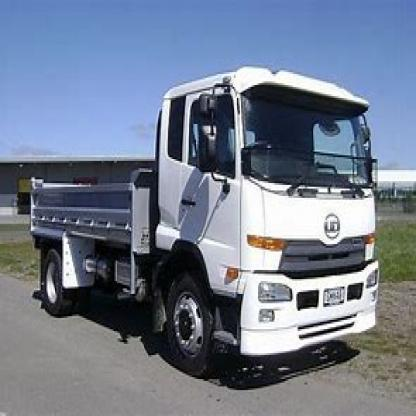dump_truck: (25, 61, 384, 385)
